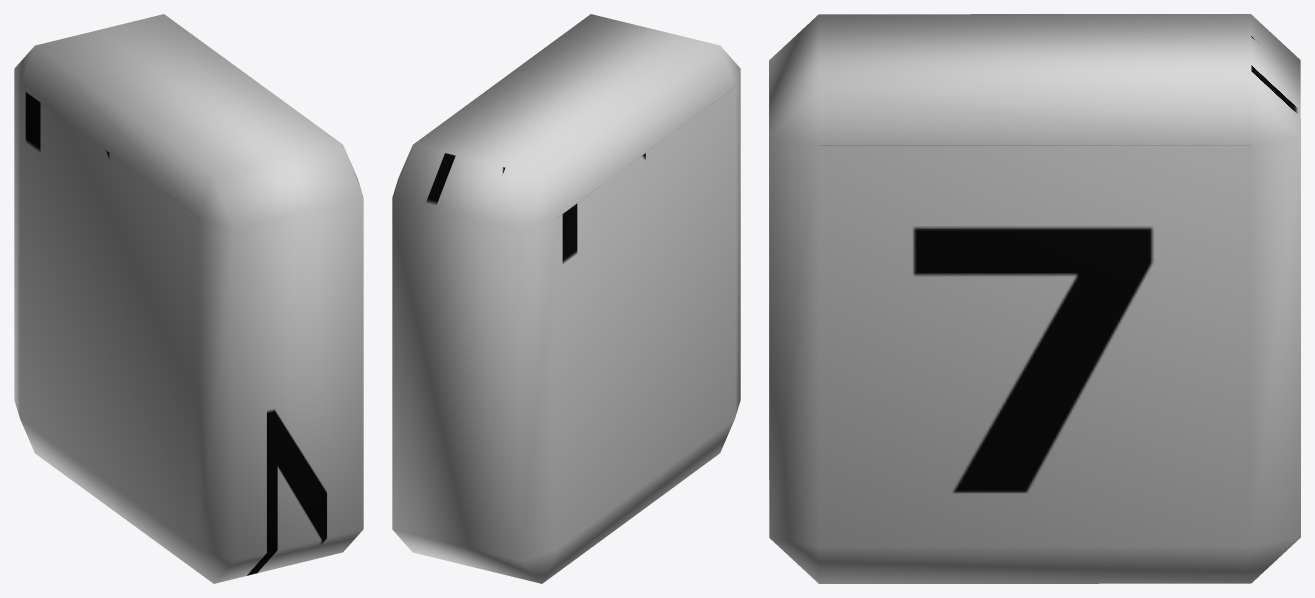
File: Boton7.fbx
3 views of the same model, side by side, from view 1: azimuth 30°, elevation 25°; view 2: azimuth 150°, elevation 25°; view 3: azimuth 270°, elevation 25° (orthographic). The views are drawn at different scales.
Parts seen in each view (by area): view 1: Boton7; view 2: Boton7; view 3: Boton7.
Boxes of the visible parts, left/top/right/bottom form: Boton7: left=14, top=14, right=363, bottom=583; Boton7: left=392, top=14, right=740, bottom=583; Boton7: left=769, top=14, right=1300, bottom=583.
Bounding box in the file's own units: 1.36 × 3.32 × 3.25.
